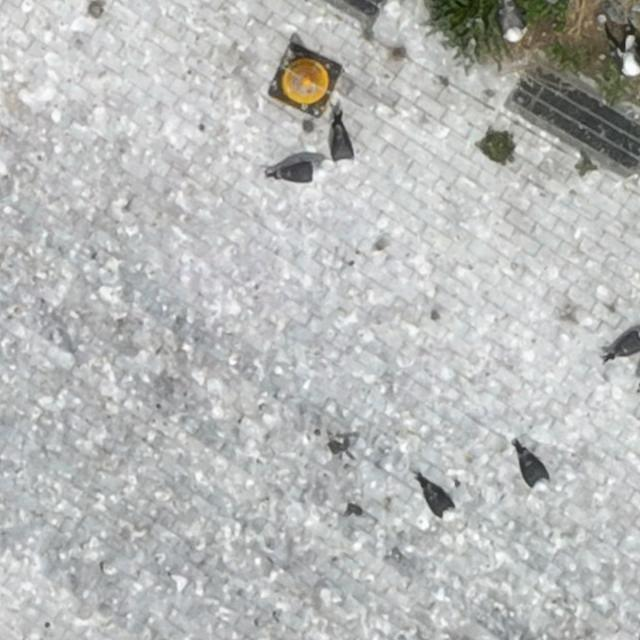umineko: (328, 114, 360, 175), (519, 452, 547, 491), (618, 34, 639, 85), (424, 484, 454, 519), (502, 7, 527, 45), (278, 163, 317, 181), (614, 332, 640, 356)
